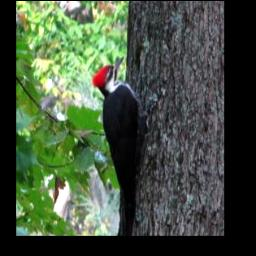Woodpecker: (89, 55, 157, 235)
